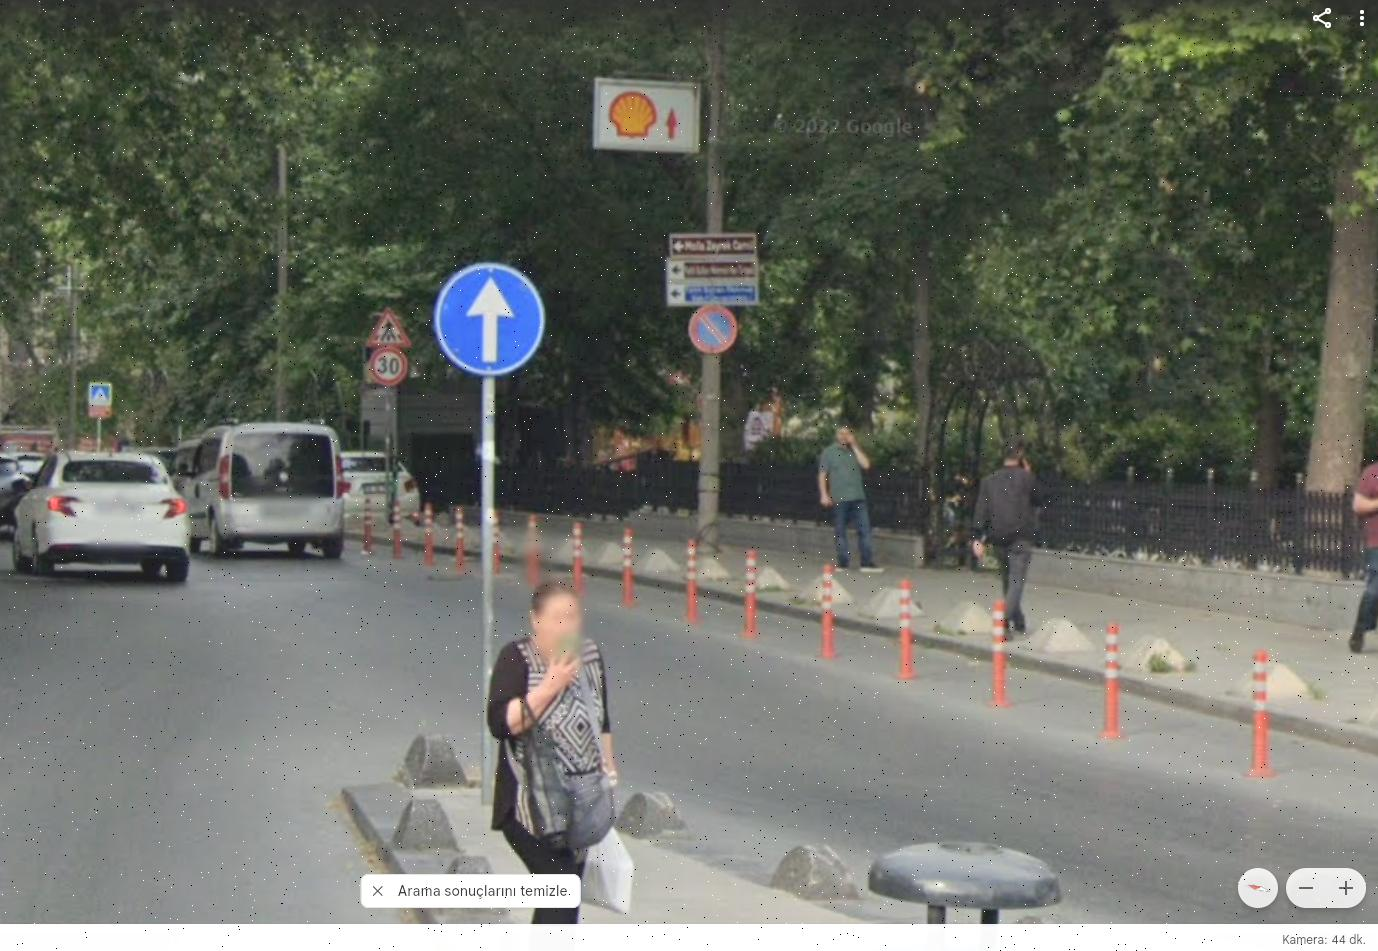forward: (434, 263, 551, 373)
